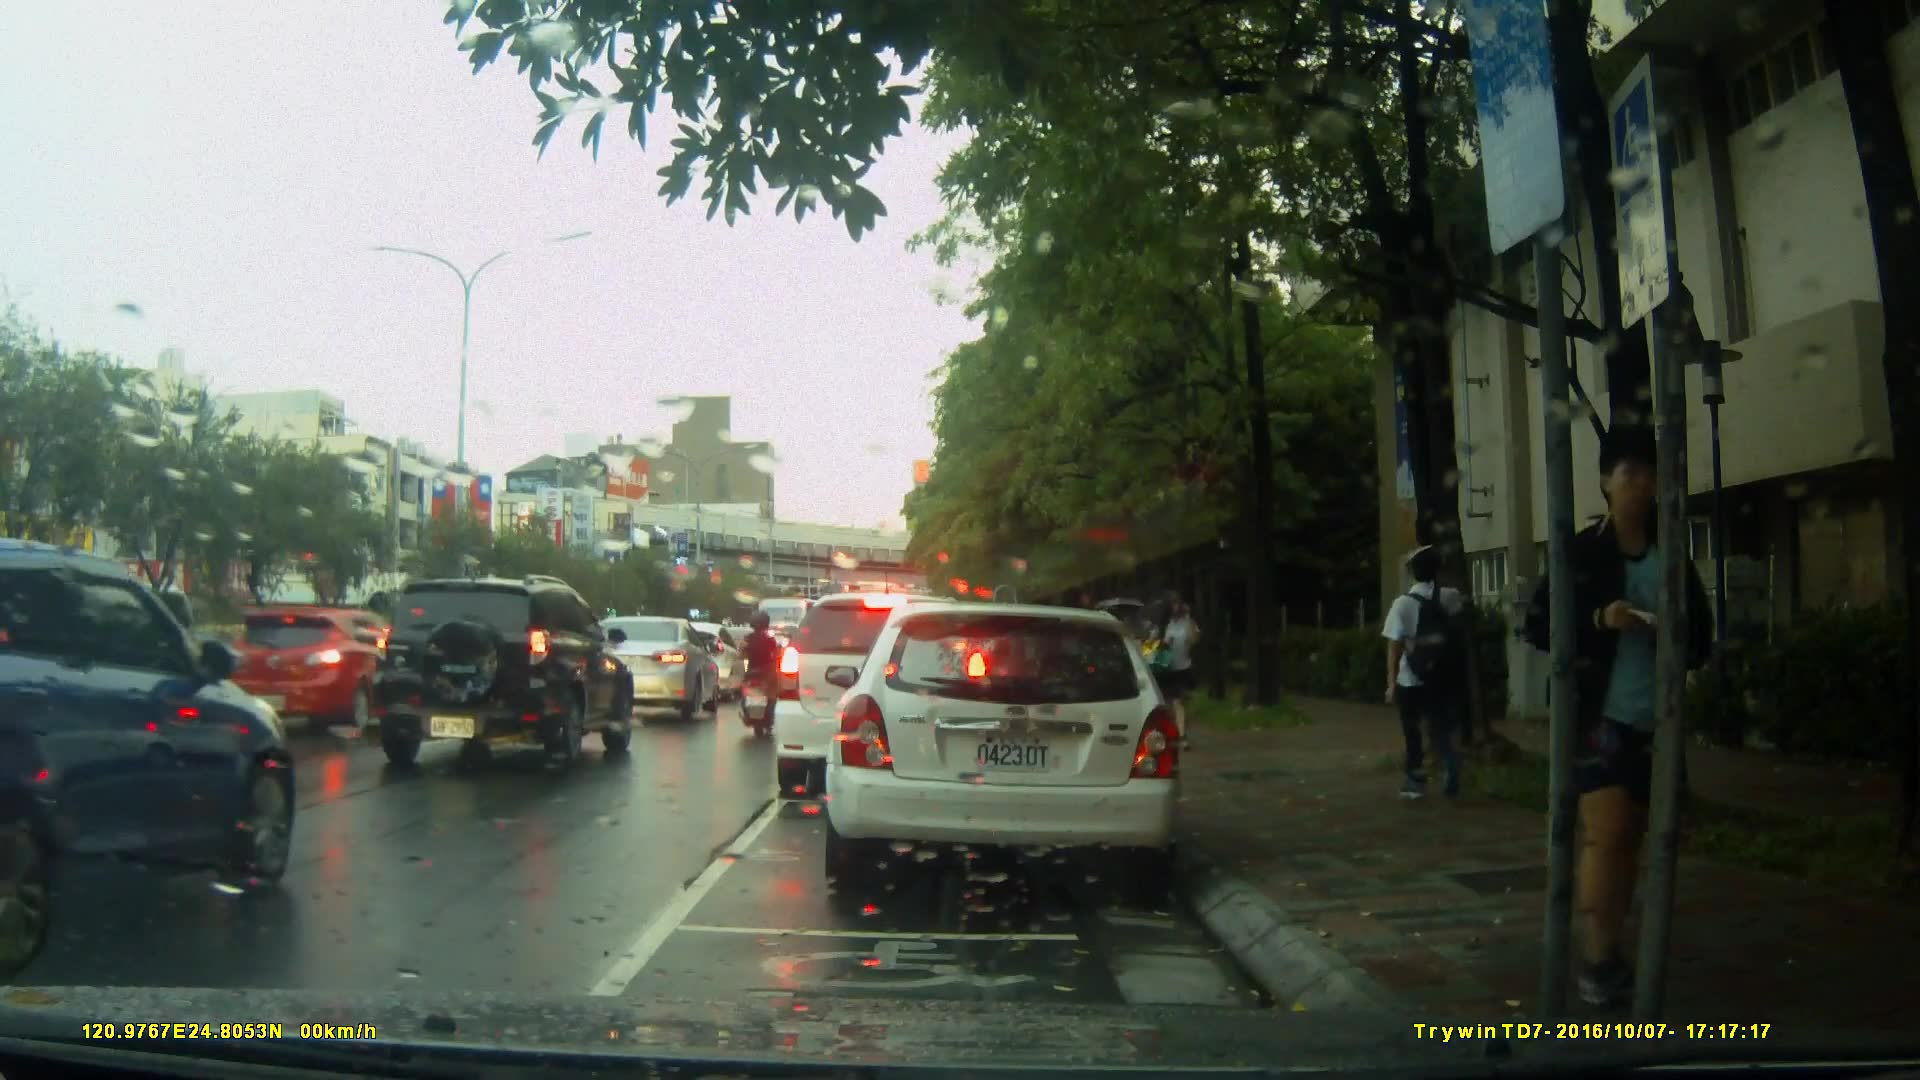pedestrian: (1563, 425, 1718, 978), (1370, 530, 1490, 810), (1145, 583, 1203, 737)
rider: (729, 606, 784, 739)
vehicle: (815, 593, 1202, 902), (3, 537, 304, 931), (364, 572, 638, 776), (771, 590, 995, 802), (218, 607, 431, 736), (560, 613, 714, 729)
